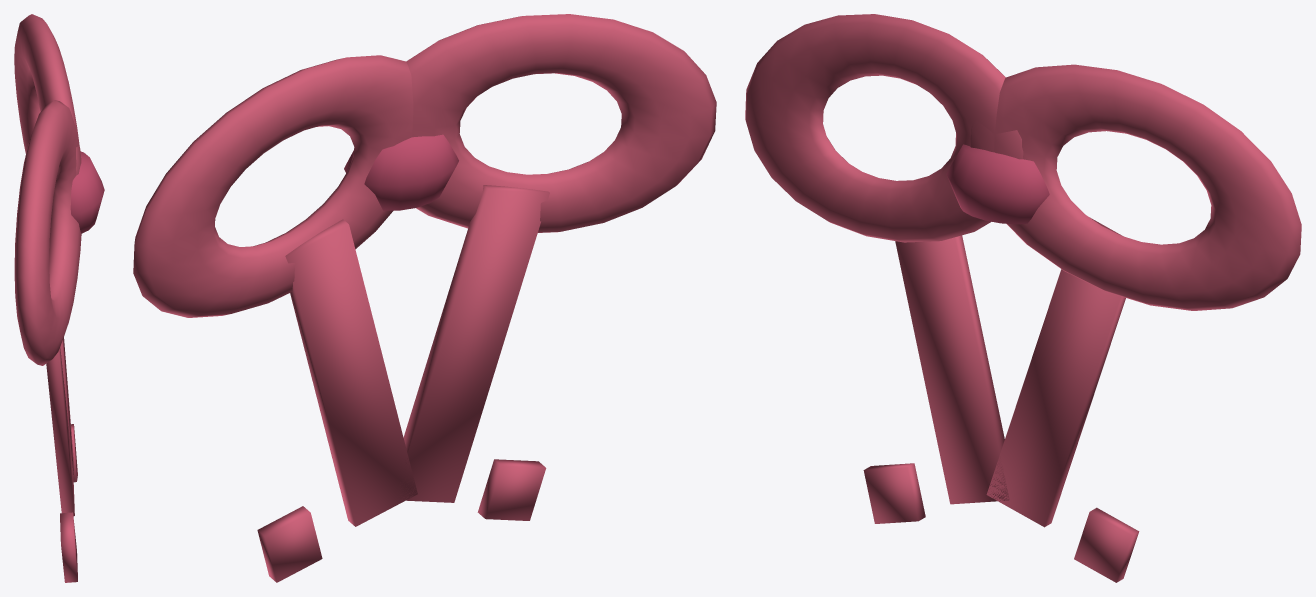
File: acc_ribbon.glb
The picture shows the model from 3 angles, left to right: view 1: azimuth 30°, elevation 25°; view 2: azimuth 150°, elevation 25°; view 3: azimuth 270°, elevation 25°; orthographic projection. The views are drawn at different scales.
Parts seen in each view (by area): view 1: acc_ribbon; view 2: acc_ribbon; view 3: acc_ribbon.
Boxes of the visible parts, <box> form: acc_ribbon: <box>14,14,104,582</box>; acc_ribbon: <box>133,14,716,582</box>; acc_ribbon: <box>745,14,1301,582</box>.
Bounding box in the file's own units: 0.0704 × 0.1162 × 0.1184.
